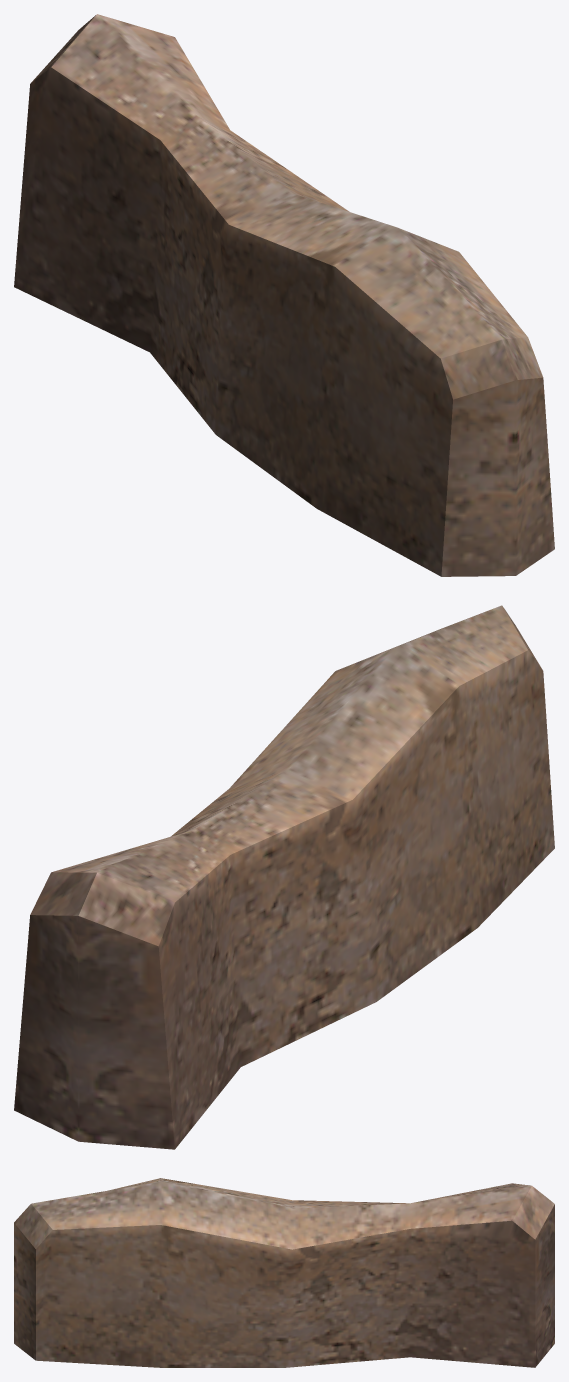
Rendered from FB_CunLuo_shiotu01.FBX.
3 views of the same model, one above another, from view 1: azimuth 30°, elevation 25°; view 2: azimuth 150°, elevation 25°; view 3: azimuth 270°, elevation 25° (orthographic). The views are drawn at different scales.
Visible parts, largest first — view 1: Object67; view 2: Object67; view 3: Object67.
Boxes of the visible parts, bbox=[...] form: Object67: bbox=[14, 14, 554, 576]; Object67: bbox=[14, 605, 554, 1149]; Object67: bbox=[14, 1178, 554, 1367].
Bounding box in the file's own units: 1.78 × 2.77 × 8.39.
